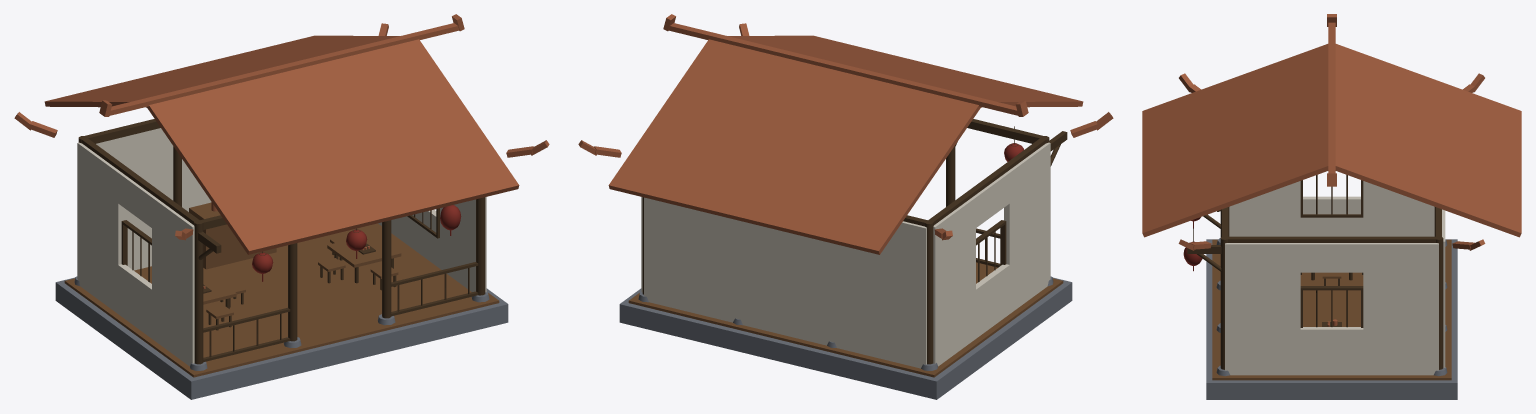
The model's file is traditional-vietnamese-tea-house.glb.
The picture shows the model from 3 angles, left to right: view 1: azimuth 30°, elevation 25°; view 2: azimuth 150°, elevation 25°; view 3: azimuth 270°, elevation 25°; orthographic projection. The views are drawn at different scales.
Parts seen in each view (by area): view 1: Mesh_RoofA, Mesh_WoodFloor, Mesh_Foundation, Mesh_RoofB, Mesh_RightWall_L, Mesh_RightWall_R, Mesh_BackWall, Mesh_RidgeCap, Mesh_LeftWall_R, Mesh_RightWall_Sill, Mesh_Counter, Mesh_Col_0_3 (+10 smaller); view 2: Mesh_RoofB, Mesh_BackWall, Mesh_Foundation, Mesh_RoofA, Mesh_RightWall_R, Mesh_RightWall_L, Mesh_WoodFloor, Mesh_RidgeCap, Mesh_RightWall_Sill, Mesh_RightWall_Lintel, Mesh_RightLintel, Mesh_Col_1_3 (+2 smaller); view 3: Mesh_RoofA, Mesh_RoofB, Mesh_LeftWall_L, Mesh_LeftWall_R, Mesh_Foundation, Mesh_WoodFloor, Mesh_LeftWall_Sill, Mesh_RightWall_L, Mesh_RightWall_R, Mesh_RightWall_Sill, Mesh_LeftWall_Lintel, Mesh_LeftLintel (+5 smaller).
Boxes of the visible parts, x1,y1,x2,y2 form: Mesh_RoofA: (147, 39, 519, 254); Mesh_WoodFloor: (64, 223, 499, 377); Mesh_Foundation: (55, 277, 508, 399); Mesh_RoofB: (44, 35, 399, 107); Mesh_RightWall_L: (77, 142, 123, 313); Mesh_RightWall_R: (152, 197, 194, 366); Mesh_BackWall: (96, 128, 211, 270); Mesh_RidgeCap: (109, 23, 459, 115); Mesh_LeftWall_R: (440, 197, 486, 292); Mesh_RightWall_Sill: (118, 264, 152, 338); Mesh_Counter: (189, 202, 276, 269); Mesh_Col_0_3: (194, 220, 203, 364); Mesh_RoofB: (608, 39, 980, 254); Mesh_BackWall: (644, 197, 926, 368); Mesh_Foundation: (619, 277, 1072, 399); Mesh_RoofA: (728, 35, 1083, 107); Mesh_RightWall_R: (1004, 142, 1050, 313); Mesh_RightWall_L: (933, 197, 975, 366); Mesh_WoodFloor: (628, 262, 1063, 377); Mesh_RidgeCap: (668, 23, 1018, 115); Mesh_RightWall_Sill: (975, 264, 1010, 338); Mesh_RightWall_Lintel: (973, 172, 1010, 227); Mesh_RightLintel: (928, 137, 1047, 224); Mesh_Col_1_3: (924, 220, 933, 364); Mesh_RoofA: (1142, 44, 1328, 237); Mesh_RoofB: (1335, 44, 1521, 237); Mesh_LeftWall_L: (1363, 243, 1438, 375); Mesh_LeftWall_R: (1225, 243, 1300, 375); Mesh_Foundation: (1206, 239, 1457, 399); Mesh_WoodFloor: (1212, 239, 1451, 380); Mesh_LeftWall_Sill: (1299, 327, 1364, 375); Mesh_RightWall_L: (1363, 181, 1434, 236); Mesh_RightWall_R: (1229, 181, 1300, 236); Mesh_RightWall_Sill: (1299, 196, 1364, 236); Mesh_LeftWall_Lintel: (1299, 243, 1364, 272); Mesh_LeftLintel: (1225, 236, 1438, 242).
Size of the model in its own units: 6.38 by 4.11 by 6.03.
4 materials, 4 textured.
